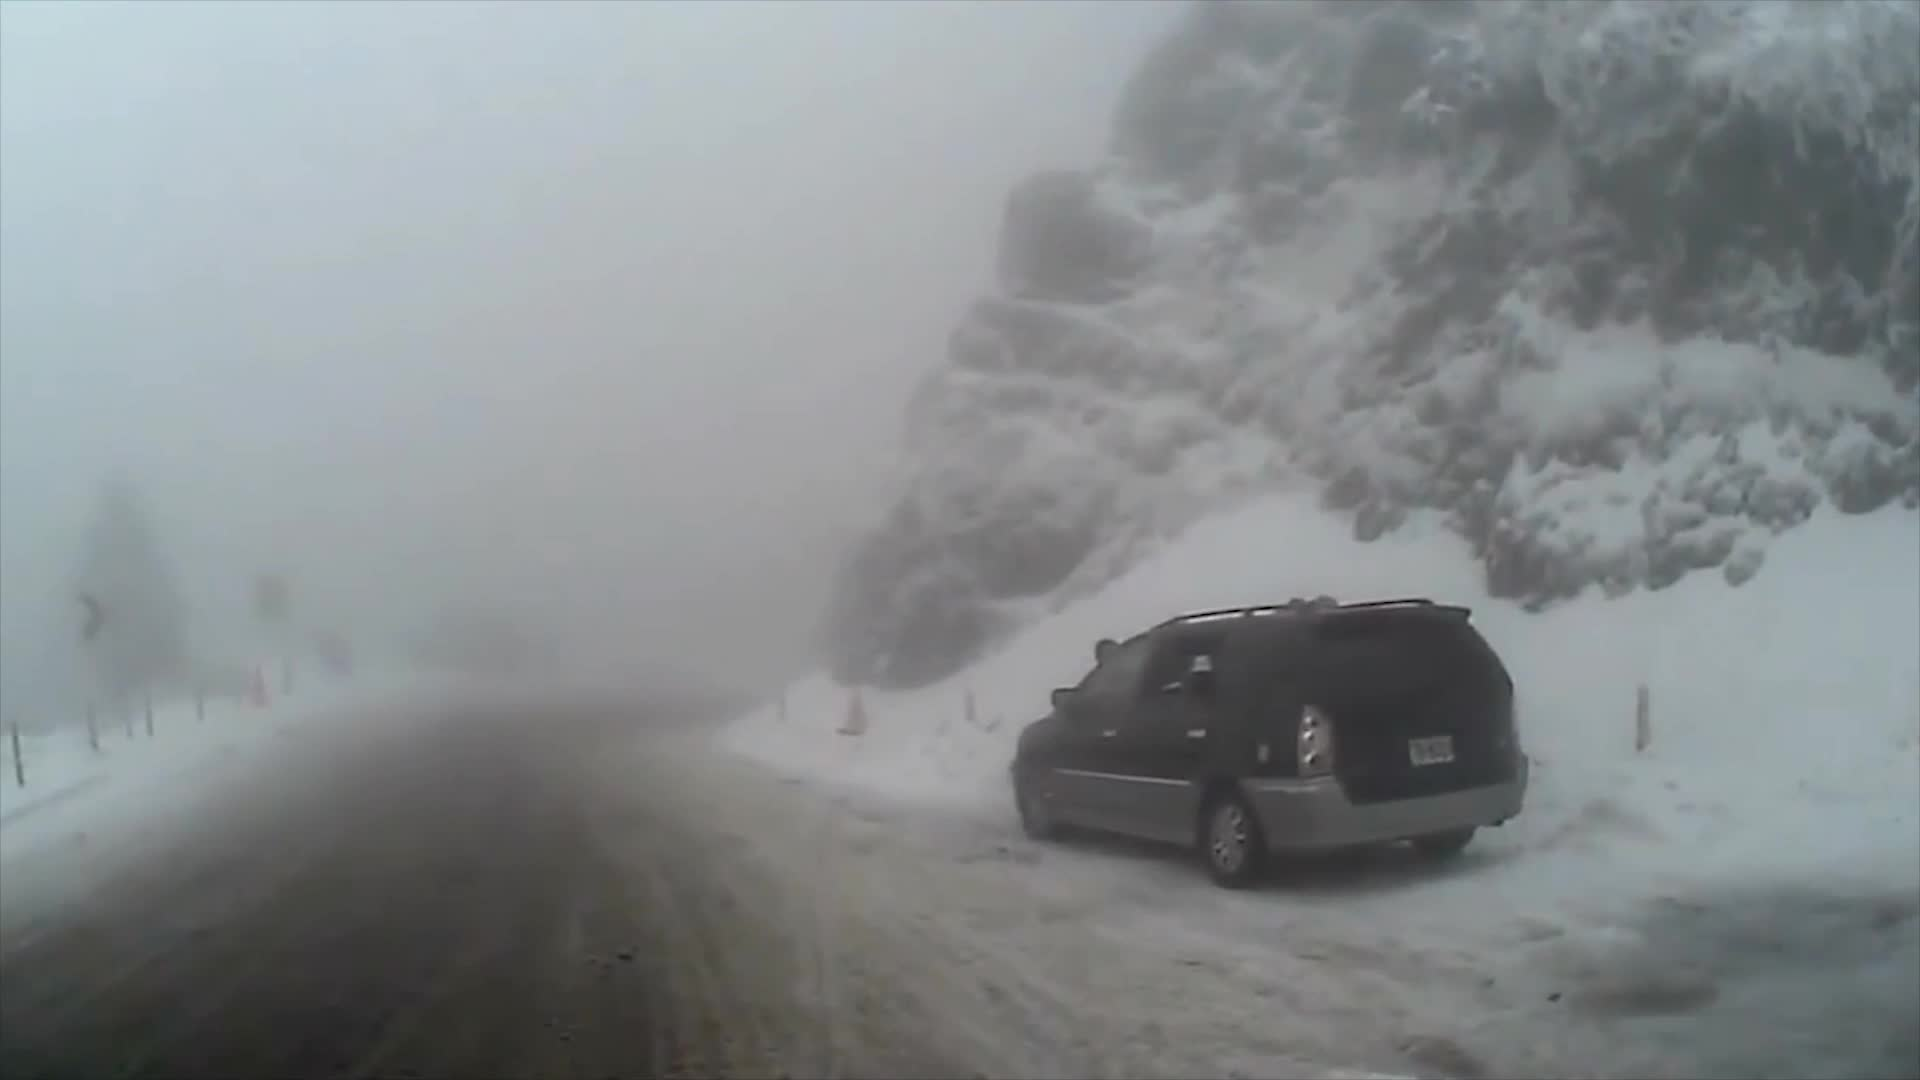vehicle: (1007, 593, 1531, 891)
